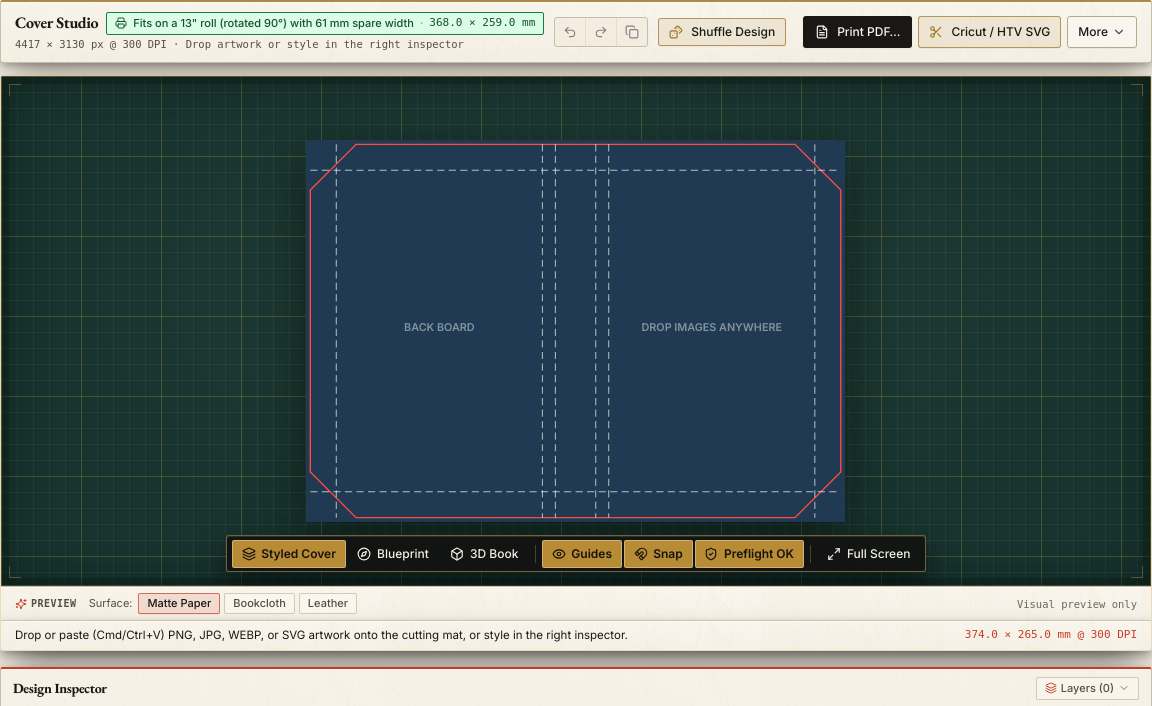
CoverStyler › switches to 1:1 mm CAD Blueprint mode (including 3-piece split) and triggers Cut-Only exports
The width and height of the screenshot is (1152, 706).
Later steps or results of the test are not shown.
Click the button with test id "studio-view-blueprint-btn".
click(393, 554)  # box [348,540,438,568]
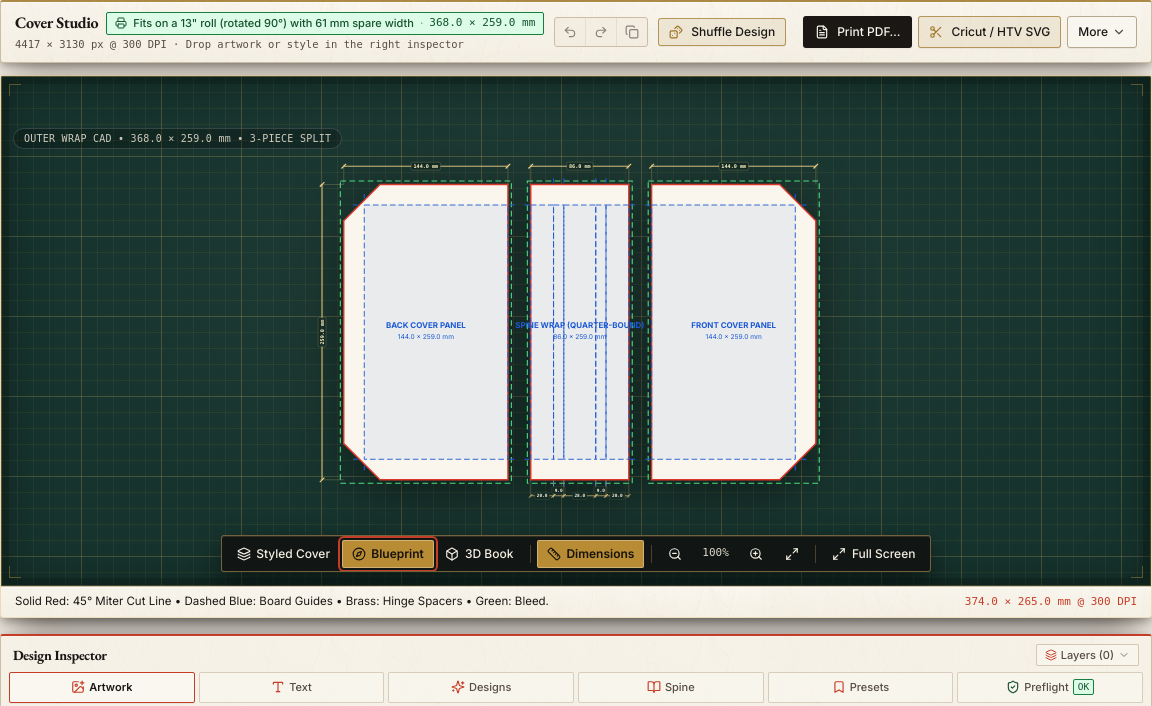
Expected: the element with test id "blueprint-split-panels" is shown, [318,162,819,500]
Expected: the picture with test id "outer-blueprint-svg" is shown, [297,140,855,522]
